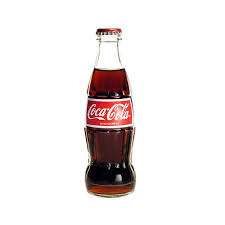coke-glass: (80, 27, 139, 194)
